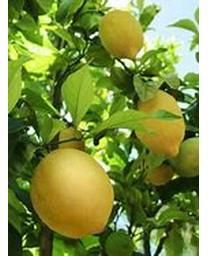lemon: (32, 149, 114, 238), (134, 90, 185, 157), (98, 10, 144, 61)
